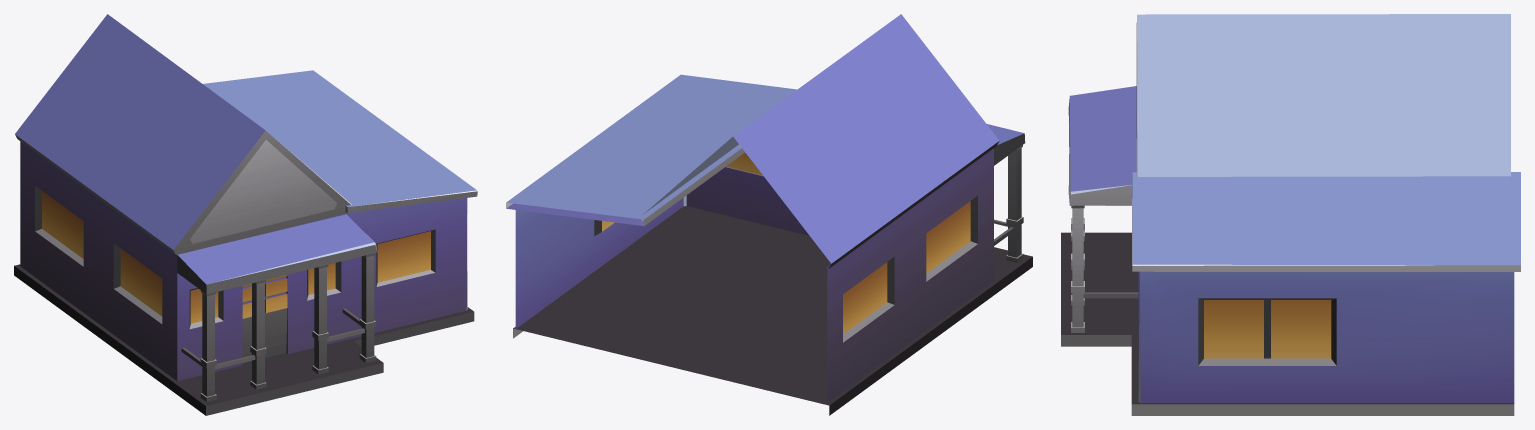
Rendered from SM_Building_13.fbx.
3 views of the same model, side by side, from view 1: azimuth 30°, elevation 25°; view 2: azimuth 150°, elevation 25°; view 3: azimuth 270°, elevation 25° (orthographic). The views are drawn at different scales.
Visible parts, largest first — view 1: SM_Building_13; view 2: SM_Building_13; view 3: SM_Building_13.
Part boxes in pixels (left/top/right/bottom): SM_Building_13: left=14, top=14, right=477, bottom=415; SM_Building_13: left=506, top=14, right=1032, bottom=415; SM_Building_13: left=1061, top=14, right=1520, bottom=415.
Bounding box in the file's own units: 866 × 656 × 964.
